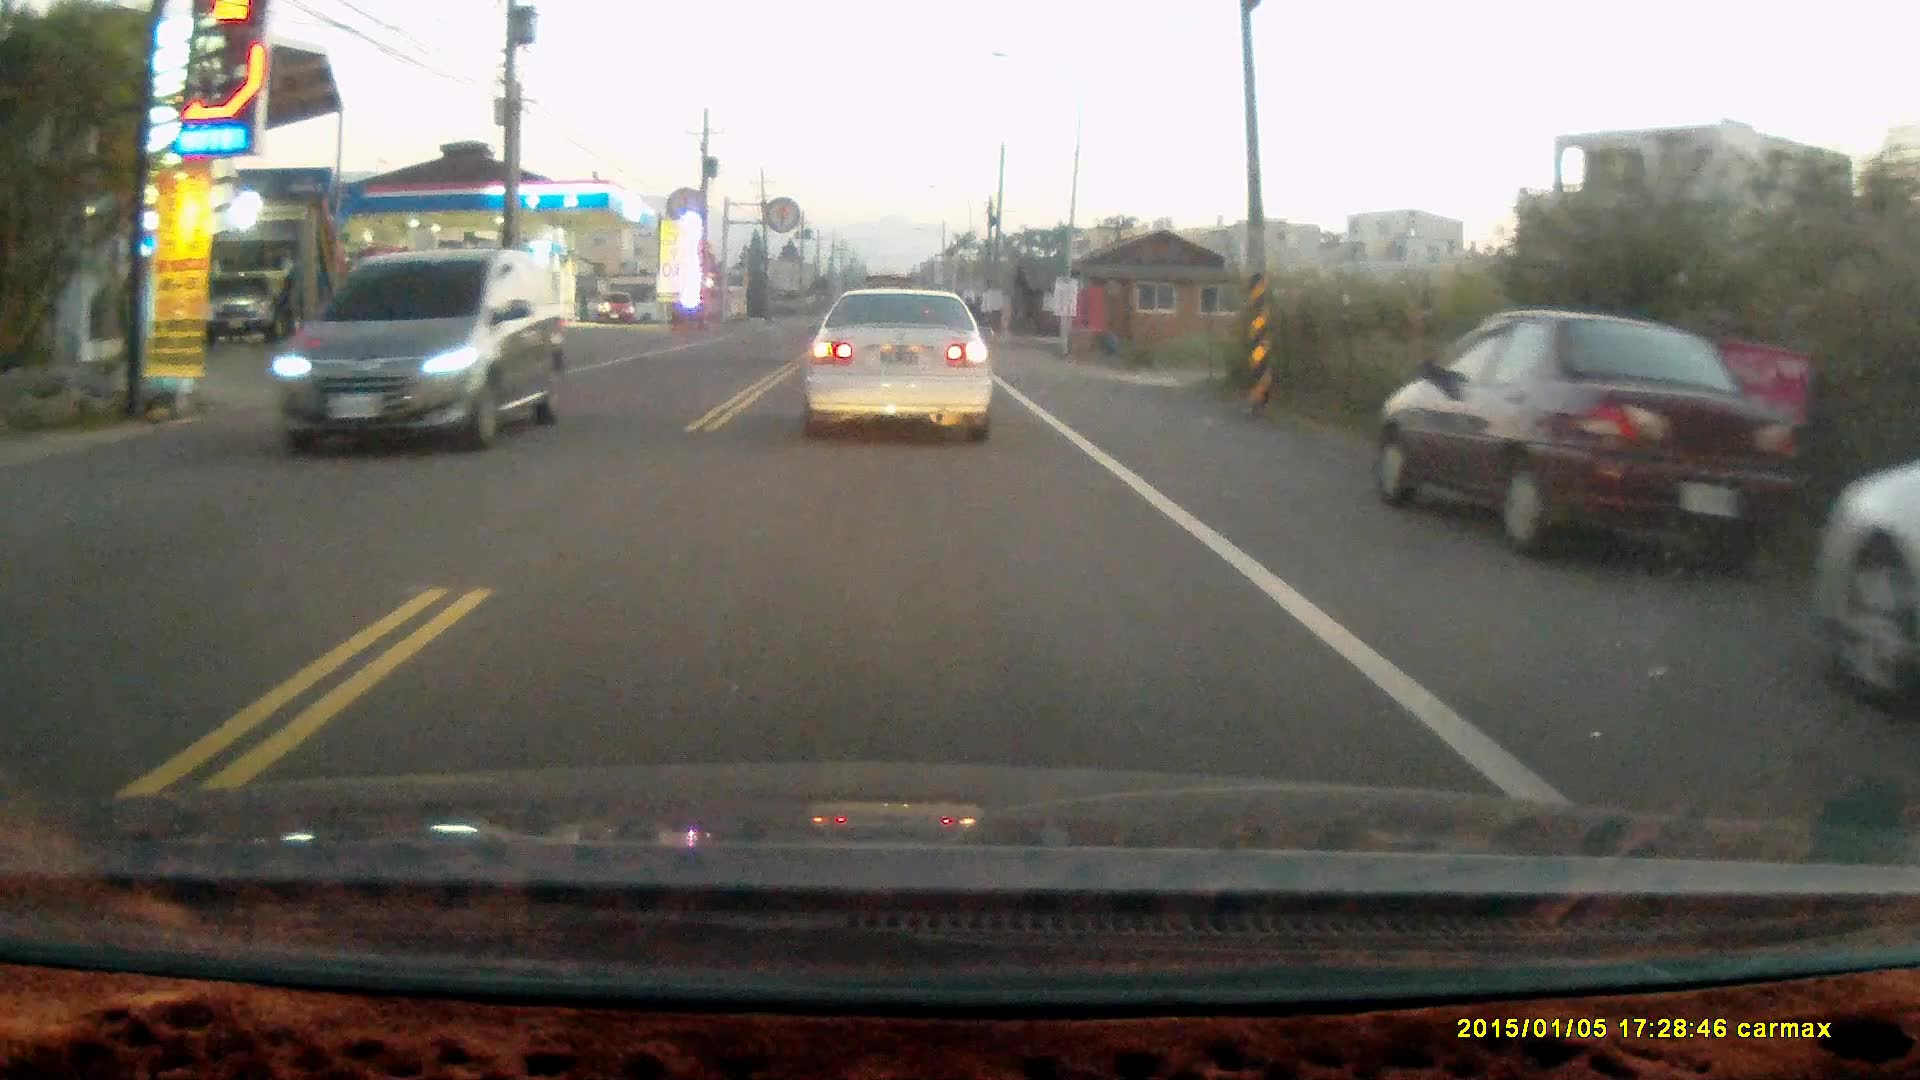vehicle: (1375, 309, 1807, 563), (274, 253, 570, 451), (796, 284, 996, 444)
